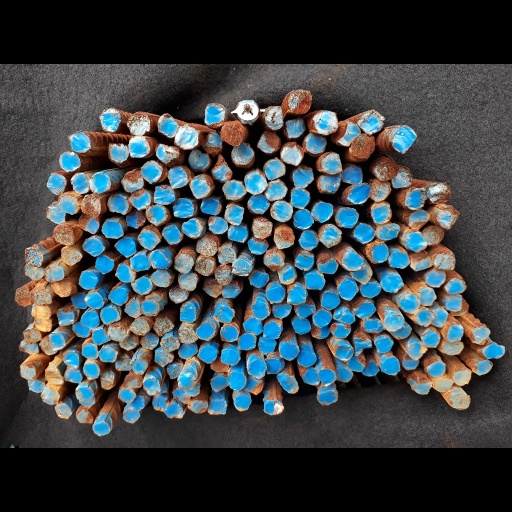dipstick: (390, 124, 417, 154), (357, 109, 385, 136), (349, 133, 376, 158), (372, 156, 398, 181), (210, 154, 233, 182), (312, 110, 337, 135), (235, 99, 260, 124), (174, 124, 199, 149), (336, 122, 361, 146), (287, 89, 311, 114), (278, 142, 303, 166), (435, 205, 459, 230), (126, 112, 150, 136), (137, 227, 162, 250), (257, 131, 281, 154), (318, 224, 342, 247), (220, 121, 242, 146), (347, 182, 370, 205), (244, 172, 267, 195), (231, 142, 254, 165), (349, 262, 372, 285), (222, 179, 245, 202), (200, 131, 222, 155), (156, 113, 178, 137), (426, 183, 451, 204), (100, 107, 121, 132), (204, 102, 224, 128), (303, 132, 326, 154), (369, 179, 391, 202), (189, 177, 211, 200), (166, 167, 189, 189), (263, 105, 284, 129), (265, 180, 287, 202), (380, 272, 402, 294), (270, 200, 292, 222), (188, 149, 210, 171), (194, 254, 216, 276), (89, 172, 111, 194), (53, 223, 75, 245), (140, 161, 163, 182), (123, 170, 144, 193), (58, 150, 81, 171), (47, 172, 67, 196), (155, 144, 180, 163), (319, 174, 341, 195), (263, 159, 285, 180), (310, 201, 332, 222), (408, 209, 429, 231), (405, 231, 427, 252), (353, 223, 375, 244), (337, 279, 358, 301), (276, 373, 298, 394), (128, 136, 149, 158), (129, 189, 150, 211), (70, 131, 91, 153), (79, 194, 100, 216), (398, 294, 421, 314), (247, 195, 270, 215), (57, 194, 80, 214), (337, 207, 358, 228), (298, 229, 319, 250), (46, 203, 67, 224), (293, 167, 313, 189), (341, 251, 363, 271), (294, 298, 316, 318), (196, 235, 218, 255), (172, 197, 194, 217), (161, 225, 183, 245), (153, 185, 175, 205), (152, 316, 174, 336), (283, 119, 306, 138), (375, 223, 400, 240), (322, 153, 342, 174), (405, 189, 425, 210), (293, 251, 314, 271), (274, 228, 294, 249), (286, 285, 307, 305), (251, 218, 272, 238), (108, 194, 128, 215), (115, 237, 136, 257), (290, 187, 309, 209), (370, 205, 392, 224), (352, 333, 371, 355), (200, 197, 222, 216), (145, 205, 167, 224), (148, 250, 170, 269), (71, 172, 90, 194), (82, 237, 104, 256), (61, 246, 83, 265), (101, 220, 124, 238), (214, 264, 234, 284), (94, 254, 114, 274), (78, 214, 98, 234), (24, 247, 44, 267), (341, 165, 362, 184), (265, 282, 284, 303), (227, 224, 248, 243), (182, 218, 203, 237), (131, 276, 152, 295), (78, 270, 99, 289), (387, 251, 409, 269), (483, 341, 505, 359), (263, 253, 285, 271), (262, 398, 284, 416), (213, 305, 235, 323), (99, 306, 121, 324), (83, 290, 105, 308), (50, 278, 72, 296), (444, 277, 467, 294), (353, 302, 376, 319), (107, 324, 130, 341), (392, 169, 412, 188), (471, 325, 490, 345), (414, 308, 434, 327), (391, 320, 411, 339), (293, 209, 313, 228), (224, 205, 243, 225), (249, 269, 269, 288), (178, 272, 198, 291), (174, 253, 194, 272), (108, 143, 128, 162), (422, 226, 443, 244), (370, 243, 388, 264), (442, 323, 463, 341), (360, 280, 381, 298), (304, 272, 325, 290), (243, 317, 264, 335), (107, 287, 128, 305), (433, 253, 455, 270), (316, 257, 338, 274), (361, 317, 383, 334), (332, 306, 354, 323), (247, 237, 269, 254), (441, 339, 464, 355), (227, 371, 246, 390), (442, 293, 462, 311), (420, 330, 440, 348), (320, 291, 340, 309), (277, 264, 295, 284), (312, 309, 332, 327), (279, 343, 299, 361), (247, 359, 267, 377), (208, 216, 228, 234), (217, 247, 237, 265), (232, 258, 252, 276), (203, 279, 223, 297), (150, 269, 170, 287), (130, 254, 150, 272), (44, 264, 64, 282), (40, 386, 60, 404), (410, 254, 431, 271), (425, 271, 446, 288), (296, 350, 317, 367), (197, 346, 218, 363), (177, 327, 198, 344), (471, 359, 493, 375), (316, 389, 338, 405), (417, 288, 436, 306), (292, 316, 311, 334), (301, 367, 320, 385), (245, 377, 264, 395), (258, 336, 276, 355), (237, 332, 256, 350), (221, 280, 240, 298), (14, 288, 32, 307), (56, 307, 75, 325), (431, 308, 448, 328), (333, 366, 353, 383), (334, 344, 354, 361), (232, 395, 252, 412), (195, 323, 215, 340), (40, 336, 57, 356), (432, 376, 453, 392), (271, 302, 292, 318), (168, 287, 189, 303), (129, 319, 150, 335), (329, 323, 351, 338), (413, 377, 431, 395), (318, 368, 336, 386), (252, 302, 270, 320), (452, 369, 471, 386), (406, 342, 423, 361), (140, 299, 159, 316), (160, 335, 179, 352), (142, 379, 161, 396), (126, 210, 145, 227), (92, 327, 111, 344), (45, 368, 64, 385), (220, 350, 240, 366), (207, 399, 227, 415), (210, 356, 230, 372), (178, 343, 198, 359), (154, 351, 174, 367), (24, 264, 44, 280), (80, 311, 100, 327), (32, 290, 53, 305), (30, 304, 51, 319), (450, 299, 468, 316), (401, 353, 419, 370), (347, 355, 365, 372), (262, 321, 280, 338), (210, 375, 228, 392), (177, 374, 195, 391), (179, 306, 197, 323), (166, 362, 184, 379), (124, 300, 142, 317), (114, 353, 132, 370), (81, 342, 98, 360), (71, 292, 89, 309), (98, 346, 117, 362), (46, 333, 65, 349), (310, 324, 330, 339), (124, 396, 144, 411), (92, 421, 112, 436), (74, 386, 94, 401), (19, 340, 39, 355), (63, 368, 83, 383), (55, 402, 72, 419), (72, 320, 89, 337), (361, 360, 379, 376), (220, 326, 238, 342), (165, 402, 183, 418), (152, 396, 170, 412), (116, 264, 132, 282), (82, 363, 100, 379), (23, 328, 41, 344), (451, 394, 470, 409), (427, 362, 446, 377), (140, 333, 159, 348), (187, 399, 207, 413), (118, 335, 138, 349), (264, 358, 281, 374), (130, 358, 148, 373), (76, 409, 94, 424), (117, 388, 136, 402), (26, 379, 45, 393), (125, 373, 142, 388), (100, 371, 114, 389), (20, 364, 36, 379), (123, 410, 140, 424), (34, 317, 51, 331), (185, 382, 200, 396), (173, 388, 190, 400), (77, 399, 94, 406)
